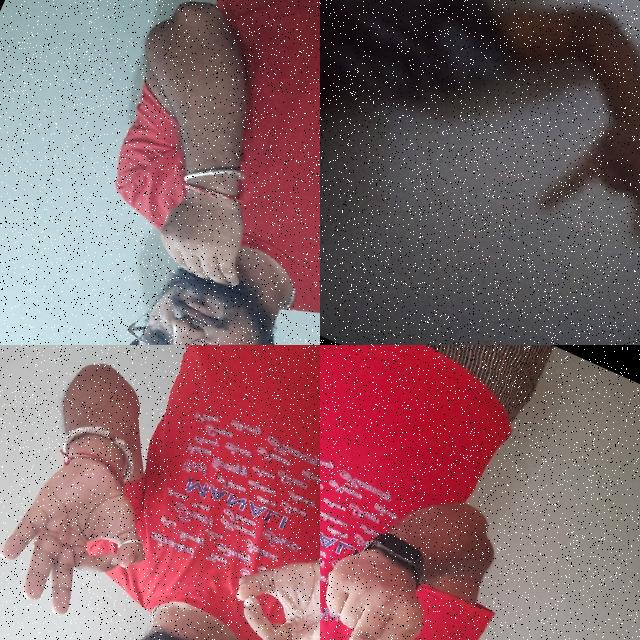Chin Flick: (74, 172, 320, 345)
Corna: (525, 77, 640, 272)
Middle Finger: (320, 517, 461, 640)
Okay: (0, 423, 180, 639), (195, 507, 320, 640)
